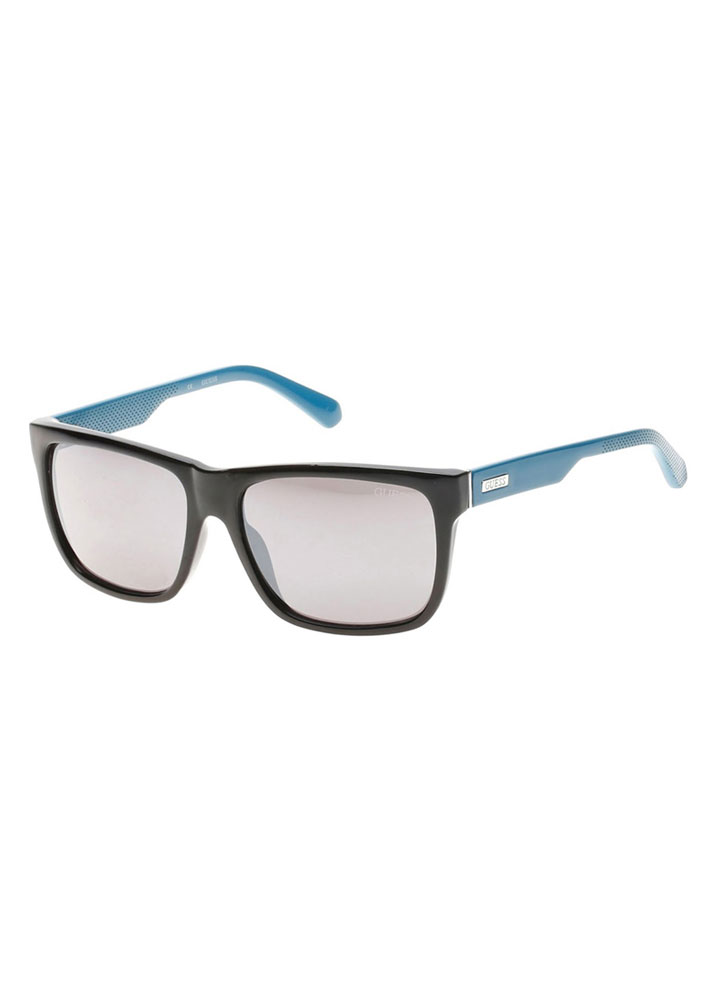Guess: (476, 471, 515, 496)
